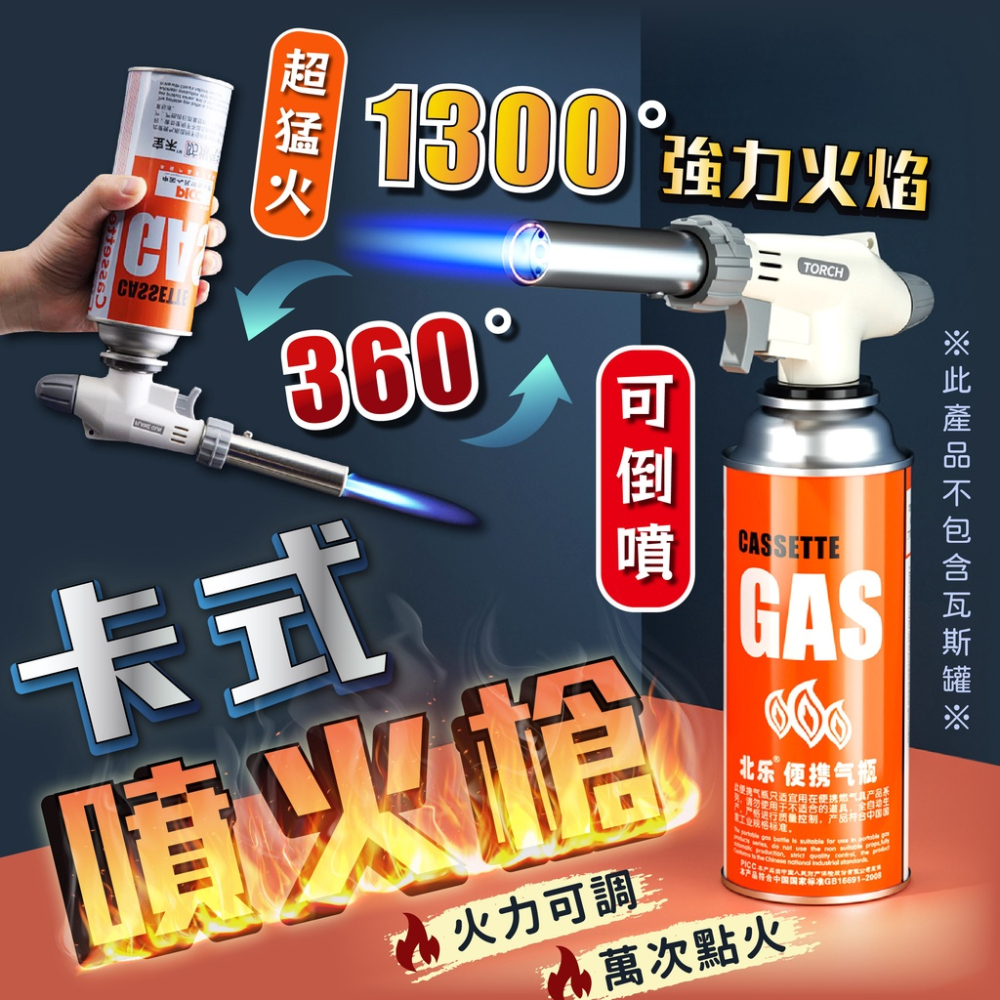gastorch: (502, 205, 926, 897), (39, 62, 346, 518)
